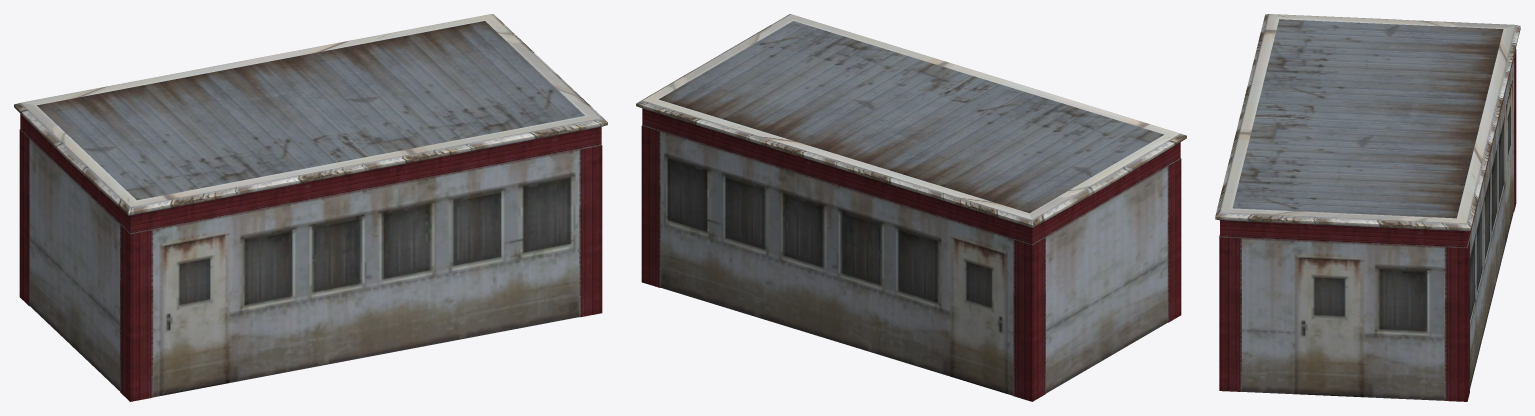
File: job_site_trailers.glb
The picture shows the model from 3 angles, left to right: view 1: azimuth 30°, elevation 25°; view 2: azimuth 150°, elevation 25°; view 3: azimuth 270°, elevation 25°; orthographic projection. The views are drawn at different scales.
Visible parts, largest first — view 1: Portable_Cabin.001_Portable_Cabin_0; view 2: Portable_Cabin.001_Portable_Cabin_0; view 3: Portable_Cabin.001_Portable_Cabin_0.
Part boxes in pixels (x1,y1,x2,y2): Portable_Cabin.001_Portable_Cabin_0: (14,14,607,401); Portable_Cabin.001_Portable_Cabin_0: (636,14,1186,401); Portable_Cabin.001_Portable_Cabin_0: (1215,14,1520,401).
Size of the model in its own units: 7.65 by 2.97 by 4.62.
1 material, 1 textured.
